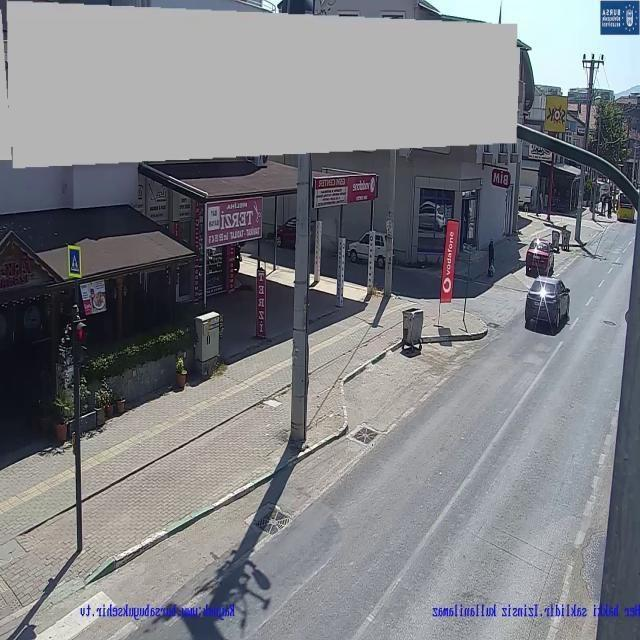Car: (519, 273, 573, 335), (511, 237, 566, 280), (344, 230, 396, 266), (270, 211, 316, 249)
